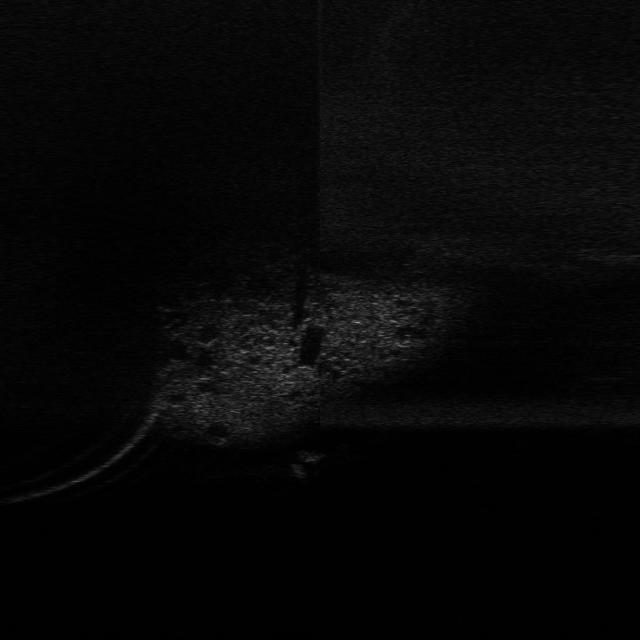cube: (293, 446, 327, 463)
cylinder: (288, 460, 310, 482)
